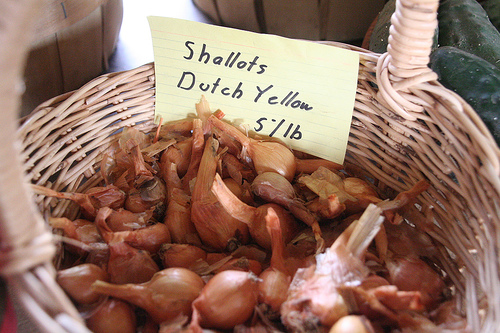onion: (192, 136, 266, 248), (89, 263, 206, 324), (188, 269, 262, 332), (259, 210, 292, 309), (326, 313, 385, 332)
